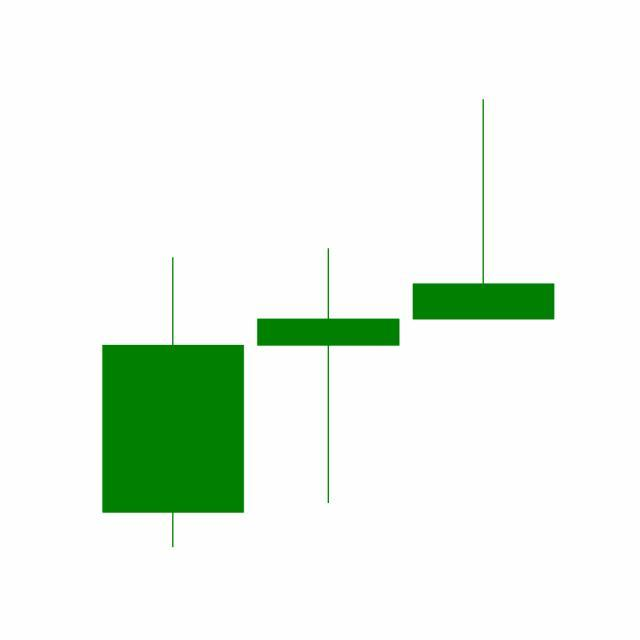Spinning Top: (250, 246, 407, 507)
